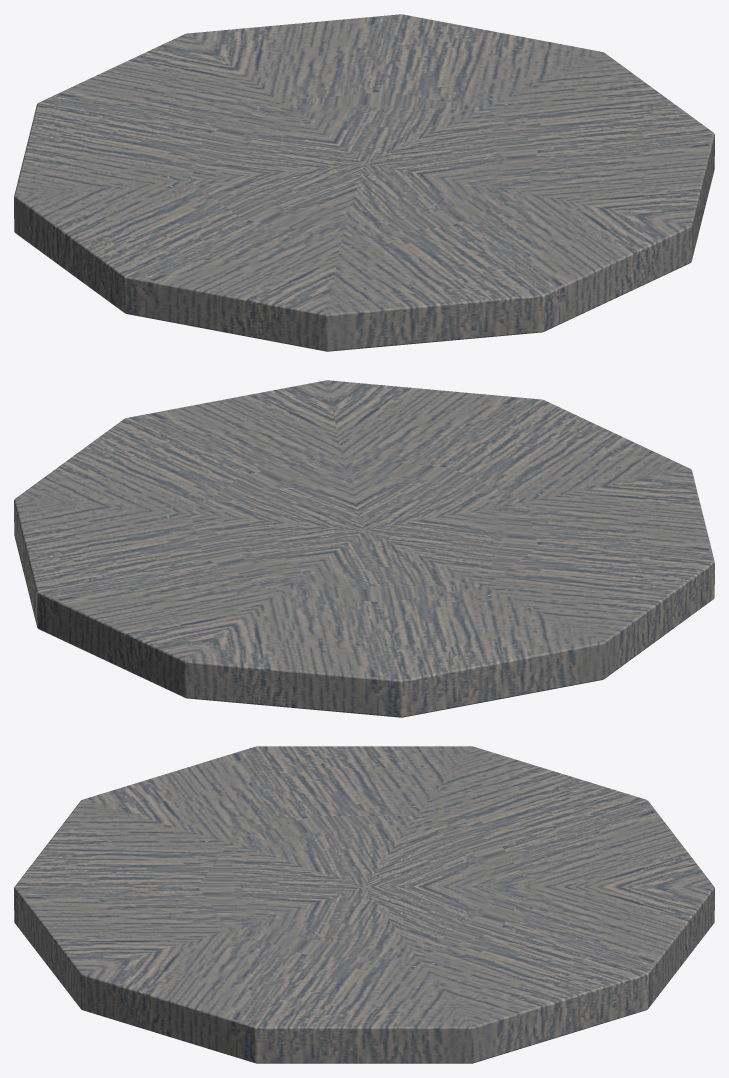
The model's file is GazeboRoofMid2.obj.
3 renders of one model, top to bottom at view 1: azimuth 30°, elevation 25°; view 2: azimuth 150°, elevation 25°; view 3: azimuth 270°, elevation 25°, orthographic. The views are drawn at different scales.
Visible parts, largest first — view 1: GazeboRoof4; view 2: GazeboRoof4; view 3: GazeboRoof4.
Boxes of the visible parts, x1,y1,x2,y2 form: GazeboRoof4: [14, 14, 714, 351]; GazeboRoof4: [14, 380, 714, 717]; GazeboRoof4: [14, 746, 714, 1063].
Bounding box in the file's own units: 757 × 46.25 × 796.
Materials: 1 (1 with a texture image).
